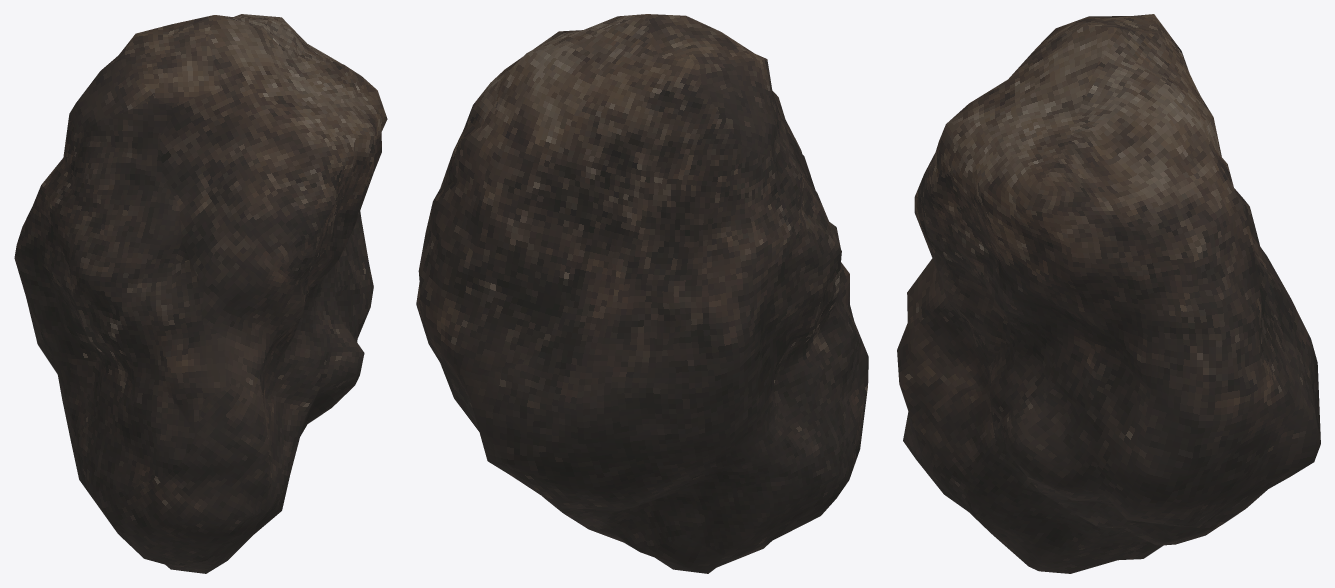
The model's file is SM_RP2_Rock_4m_3.001.glb.
The picture shows the model from 3 angles, left to right: view 1: azimuth 30°, elevation 25°; view 2: azimuth 150°, elevation 25°; view 3: azimuth 270°, elevation 25°; orthographic projection. The views are drawn at different scales.
Visible parts, largest first — view 1: SM_RP2_Rock_4m_3.001; view 2: SM_RP2_Rock_4m_3.001; view 3: SM_RP2_Rock_4m_3.001.
Part boxes in pixels (bbox=[...]): SM_RP2_Rock_4m_3.001: bbox=[14, 14, 387, 573]; SM_RP2_Rock_4m_3.001: bbox=[416, 14, 868, 573]; SM_RP2_Rock_4m_3.001: bbox=[897, 14, 1320, 573].
Size of the model in its own units: 4.59 by 6.94 by 4.71.
Materials: 1 (1 with a texture image).
